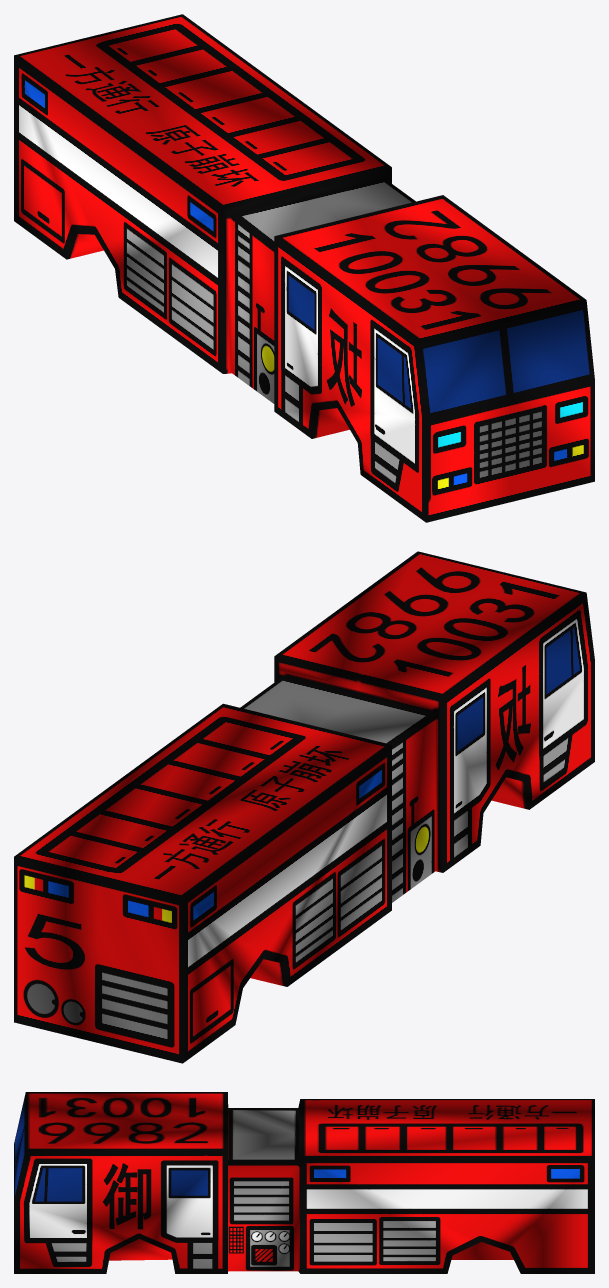
File: FireTruckII.obj
The picture shows the model from 3 angles, top to bottom: view 1: azimuth 30°, elevation 25°; view 2: azimuth 150°, elevation 25°; view 3: azimuth 270°, elevation 25°; orthographic projection. The views are drawn at different scales.
Parts seen in each view (by area): view 1: FireTruckII; view 2: FireTruckII; view 3: FireTruckII.
Part boxes in pixels (box(x1,y1,x2,y2)): FireTruckII: box(14, 14, 594, 522); FireTruckII: box(14, 551, 594, 1063); FireTruckII: box(14, 1092, 594, 1273).
Size of the model in its own units: 246 by 244 by 1038.
Materials: 1 (1 with a texture image).
